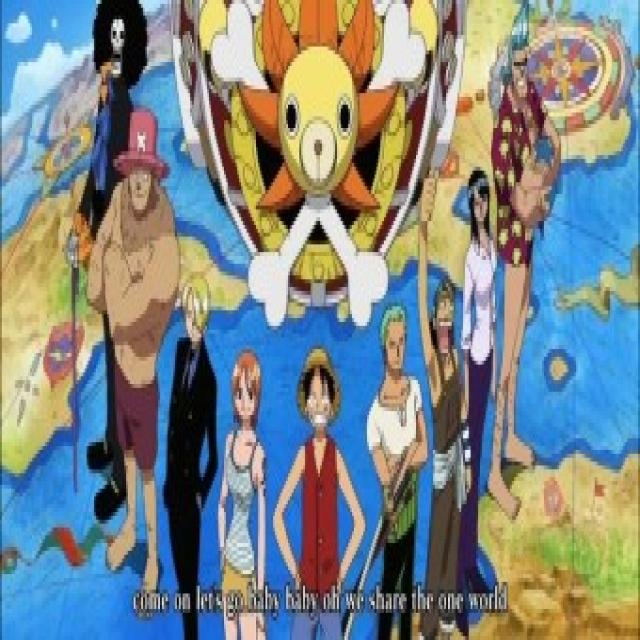Blook: (90, 0, 148, 96)
Chyopa: (108, 96, 177, 236)
Franky: (498, 0, 540, 104)
Luffy: (295, 343, 347, 444)
Nami: (224, 334, 268, 434)
NicoRobin: (464, 162, 494, 255)
Sangdi: (178, 264, 216, 354)
Usopp: (427, 279, 461, 359)
Zoro: (378, 301, 408, 385)
